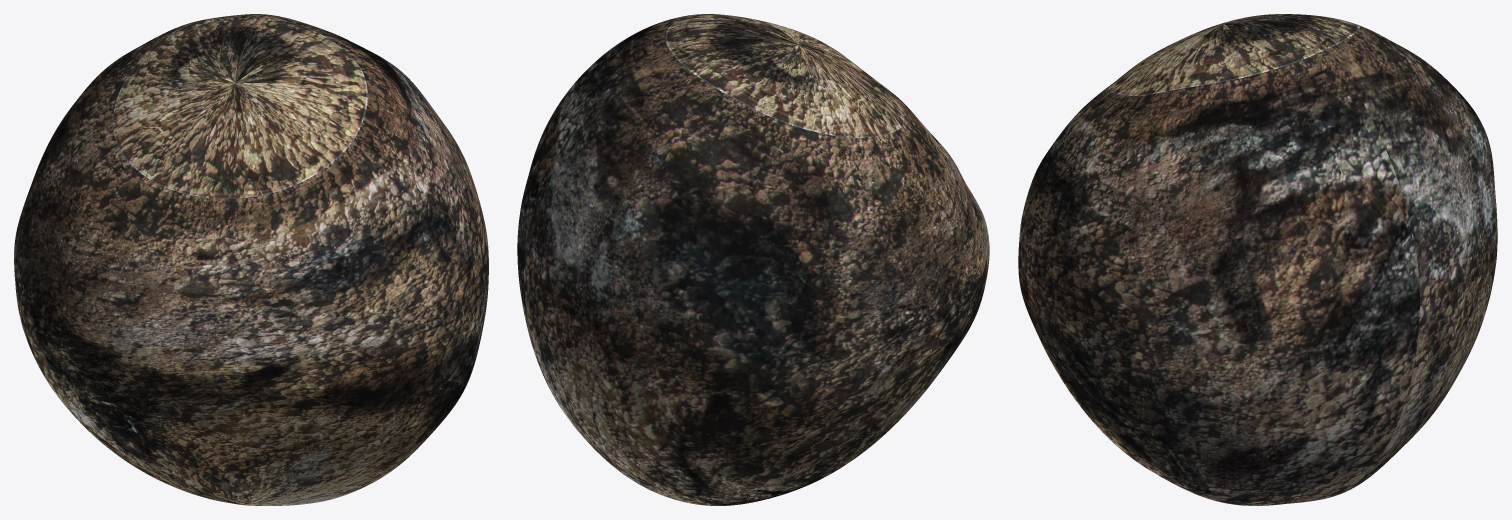
Rendered from asteroid.glb.
3 views of the same model, side by side, from view 1: azimuth 30°, elevation 25°; view 2: azimuth 150°, elevation 25°; view 3: azimuth 270°, elevation 25° (orthographic).
Visible parts, largest first — view 1: Sphere; view 2: Sphere; view 3: Sphere.
Part boxes in pixels (x1=…): Sphere: x1=14, y1=14, x2=488, y2=505; Sphere: x1=517, y1=14, x2=989, y2=505; Sphere: x1=1018, y1=14, x2=1497, y2=505.
Size of the model in its own units: 1.99 by 2.1 by 2.01.
1 material, 1 textured.
